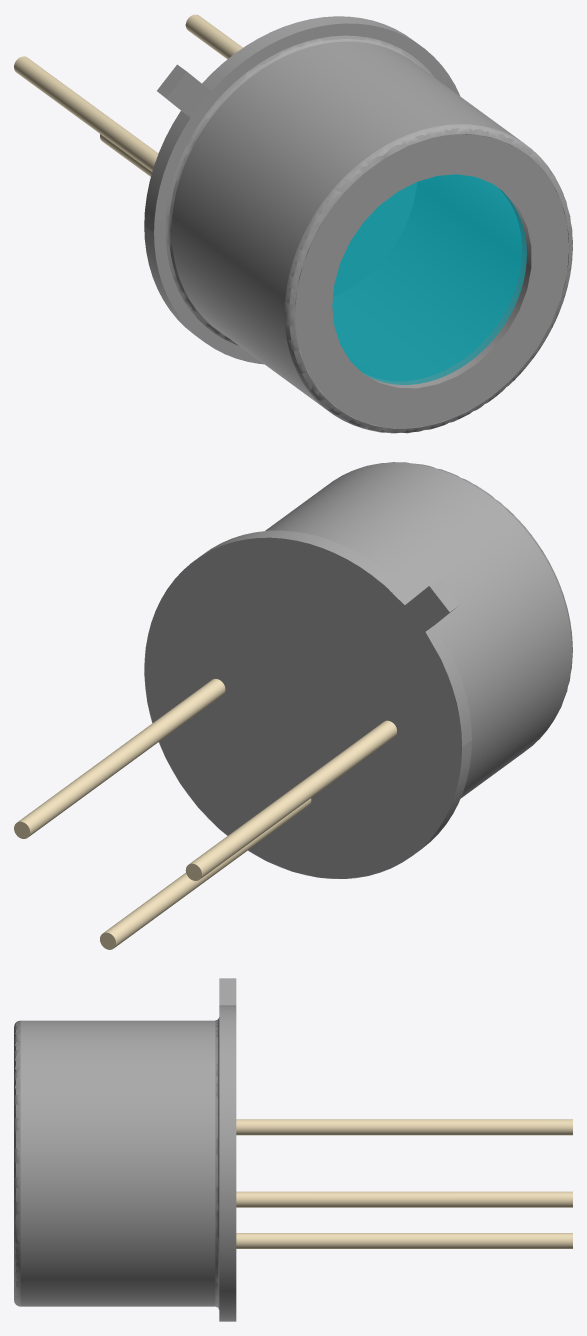
File: TO-5-3_Window.glb
3 renders of one model, top to bottom at view 1: azimuth 30°, elevation 25°; view 2: azimuth 150°, elevation 25°; view 3: azimuth 270°, elevation 25°, orthographic. The views are drawn at different scales.
Visible parts, largest first — view 1: Shape_IndexedFaceSet.003, Shape_IndexedFaceSet.004, Shape_IndexedFaceSet.024, Shape_IndexedFaceSet, Shape_IndexedFaceSet.023, Shape_IndexedFaceSet.006, Shape_IndexedFaceSet.001, Shape_IndexedFaceSet.022, Shape_IndexedFaceSet.015, Shape_IndexedFaceSet.005, Shape_IndexedFaceSet.009, Shape_IndexedFaceSet.002 (+3 smaller); view 2: Shape_IndexedFaceSet.010, Shape_IndexedFaceSet.003, Shape_IndexedFaceSet.014, Shape_IndexedFaceSet.015, Shape_IndexedFaceSet.017, Shape_IndexedFaceSet.009, Shape_IndexedFaceSet.016, Shape_IndexedFaceSet.007, Shape_IndexedFaceSet.018; view 3: Shape_IndexedFaceSet.003, Shape_IndexedFaceSet.015, Shape_IndexedFaceSet.017, Shape_IndexedFaceSet.009, Shape_IndexedFaceSet.016, Shape_IndexedFaceSet.001, Shape_IndexedFaceSet.005, Shape_IndexedFaceSet.012.
Boxes of the visible parts, x1,y1,x2,y2 form: Shape_IndexedFaceSet.003: [171, 41, 569, 428]; Shape_IndexedFaceSet.004: [332, 174, 526, 384]; Shape_IndexedFaceSet.024: [332, 174, 521, 380]; Shape_IndexedFaceSet: [295, 134, 569, 428]; Shape_IndexedFaceSet.023: [295, 139, 521, 380]; Shape_IndexedFaceSet.006: [154, 23, 460, 364]; Shape_IndexedFaceSet.001: [284, 124, 572, 433]; Shape_IndexedFaceSet.022: [334, 183, 416, 295]; Shape_IndexedFaceSet.015: [14, 56, 158, 171]; Shape_IndexedFaceSet.005: [165, 35, 434, 345]; Shape_IndexedFaceSet.009: [144, 16, 417, 340]; Shape_IndexedFaceSet.002: [364, 191, 531, 388]; Shape_IndexedFaceSet.010: [144, 538, 461, 878]; Shape_IndexedFaceSet.003: [265, 462, 571, 798]; Shape_IndexedFaceSet.014: [293, 605, 424, 721]; Shape_IndexedFaceSet.015: [190, 720, 396, 878]; Shape_IndexedFaceSet.017: [18, 679, 225, 837]; Shape_IndexedFaceSet.009: [144, 530, 471, 878]; Shape_IndexedFaceSet.016: [104, 798, 311, 947]; Shape_IndexedFaceSet.007: [425, 625, 471, 746]; Shape_IndexedFaceSet.018: [405, 586, 449, 631]; Shape_IndexedFaceSet.003: [20, 1020, 215, 1306]; Shape_IndexedFaceSet.015: [236, 1119, 572, 1135]; Shape_IndexedFaceSet.017: [236, 1191, 572, 1207]; Shape_IndexedFaceSet.009: [219, 1005, 236, 1321]; Shape_IndexedFaceSet.016: [236, 1233, 572, 1248]; Shape_IndexedFaceSet.001: [14, 1020, 20, 1306]; Shape_IndexedFaceSet.005: [215, 1017, 219, 1309]; Shape_IndexedFaceSet.012: [219, 978, 236, 1005].
Bounding box in the file's own units: 3.7 × 3.7 × 6.54.
